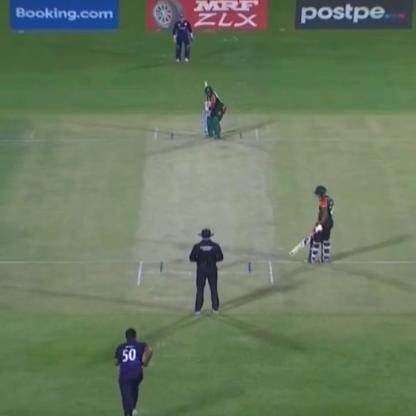bat: (286, 223, 316, 256), (198, 72, 216, 111)
pitch: (124, 122, 284, 306)
